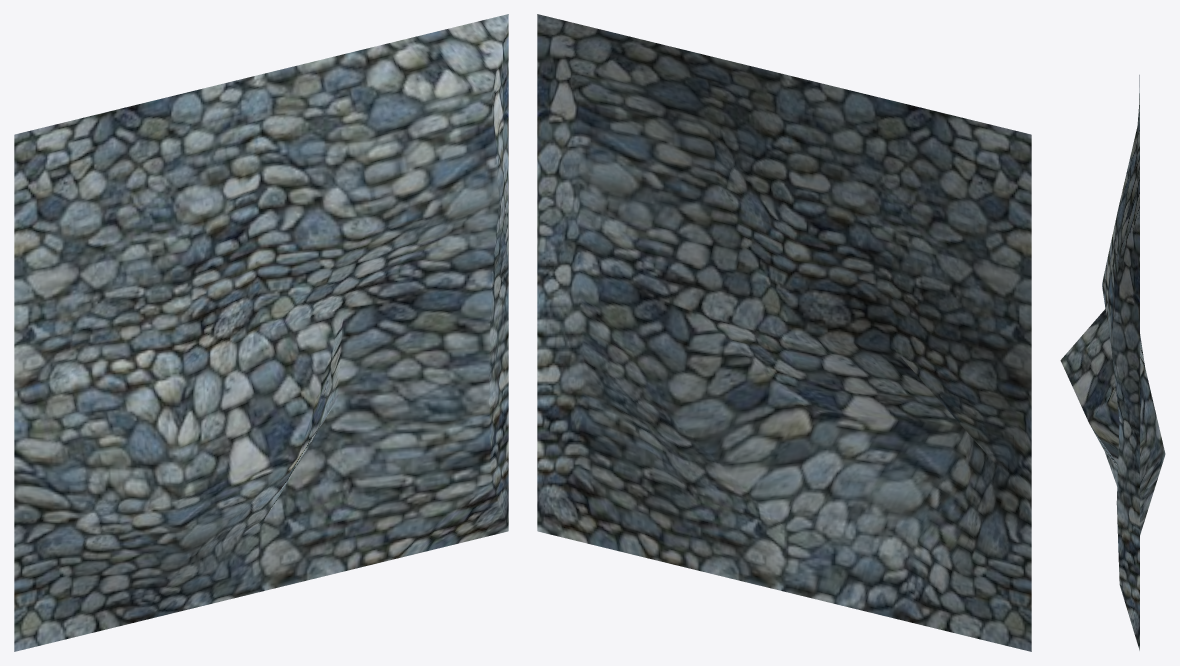
The model's file is ground_steep_1.obj.
The picture shows the model from 3 angles, left to right: view 1: azimuth 30°, elevation 25°; view 2: azimuth 150°, elevation 25°; view 3: azimuth 270°, elevation 25°; orthographic projection. The views are drawn at different scales.
Size of the model in its own units: 2 by 2 by 0.4376.
